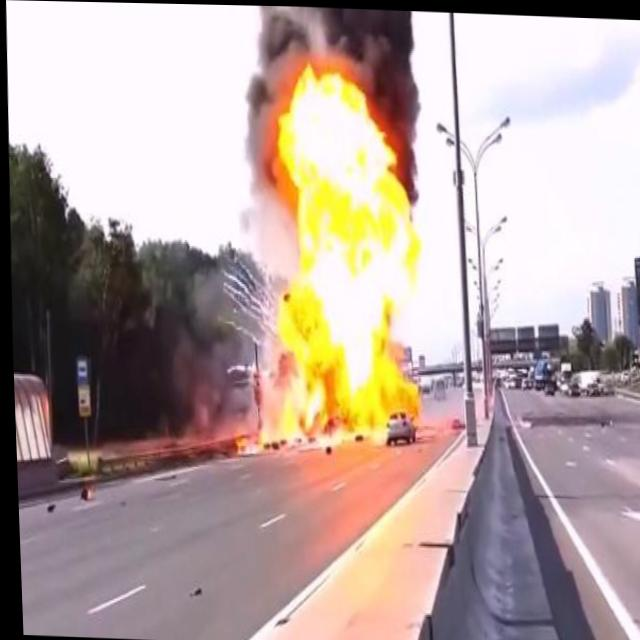fire: (255, 57, 432, 446)
